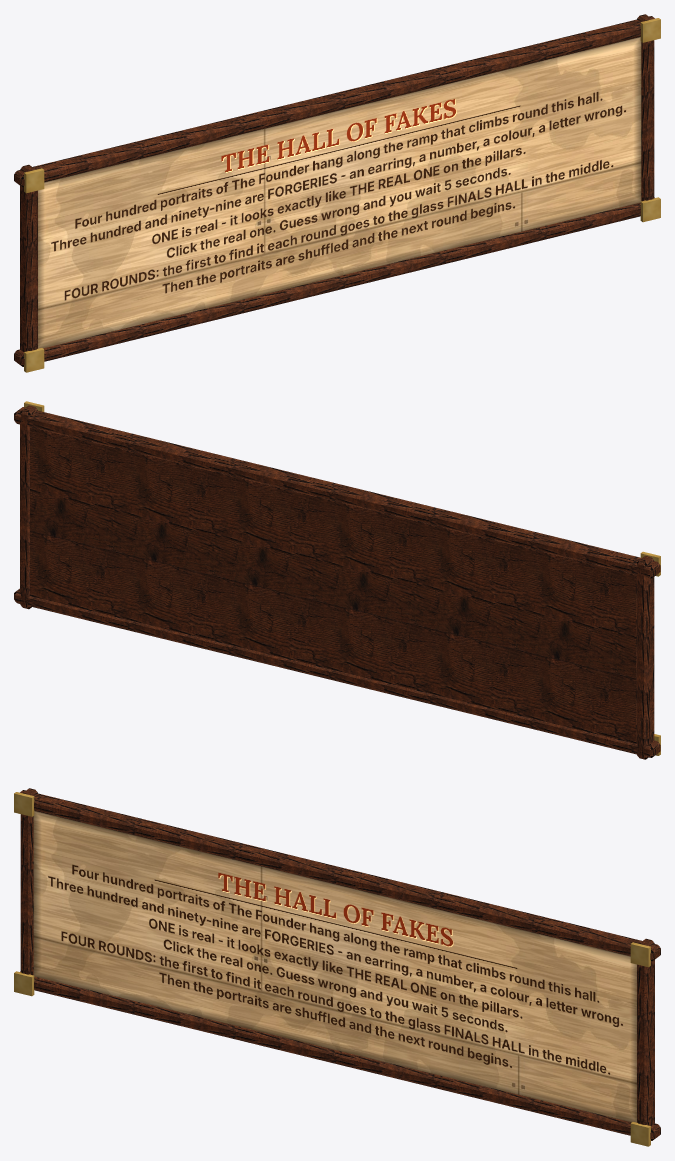
Rendered from sg_hall_rules.glb.
The picture shows the model from 3 angles, top to bottom: view 1: azimuth 30°, elevation 25°; view 2: azimuth 150°, elevation 25°; view 3: azimuth 330°, elevation 25°; orthographic projection.
Visible parts, largest first — view 1: spire; view 2: spire; view 3: spire.
Boxes of the visible parts, box(x1,y1,x2,y2) form: spire: box(14, 14, 660, 372); spire: box(14, 401, 660, 759); spire: box(14, 788, 660, 1146).
Size of the model in its own units: 6.36 by 1.88 by 0.19.
Materials: 3 (3 with a texture image).
